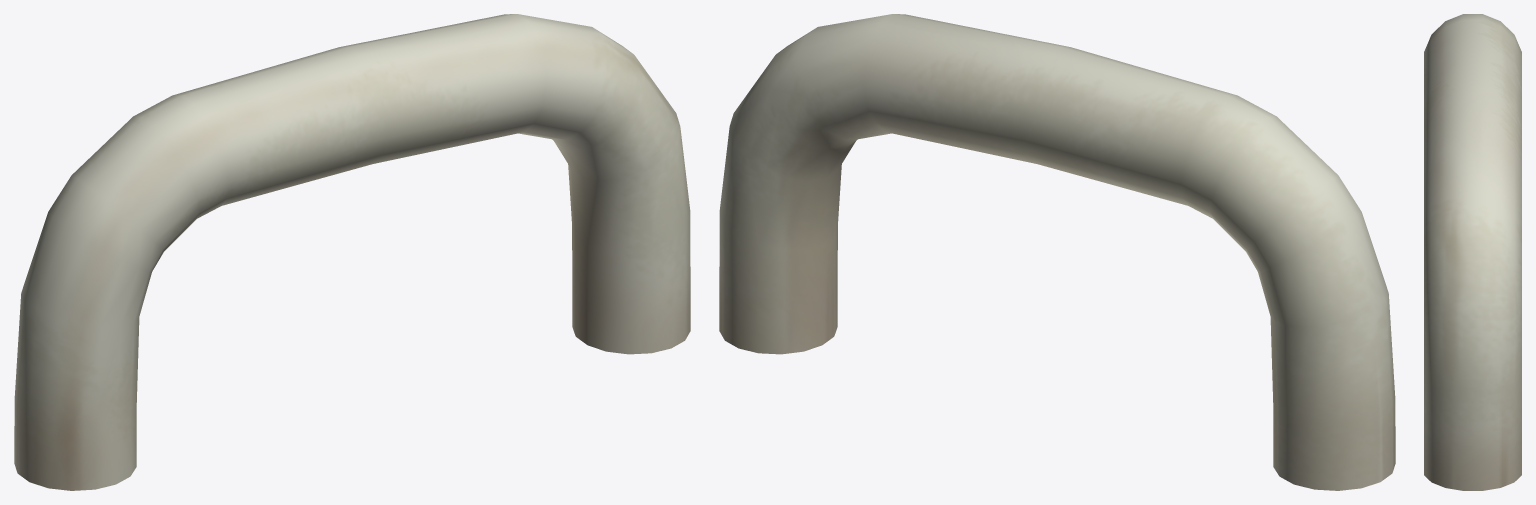
File: SiloTopPipe.fbx
The picture shows the model from 3 angles, left to right: view 1: azimuth 30°, elevation 25°; view 2: azimuth 150°, elevation 25°; view 3: azimuth 270°, elevation 25°; orthographic projection. The views are drawn at different scales.
Visible parts, largest first — view 1: SiloTopPipe; view 2: SiloTopPipe; view 3: SiloTopPipe.
Part boxes in pixels (x1,y1,x2,y2): SiloTopPipe: (14,14,690,490); SiloTopPipe: (719,14,1395,490); SiloTopPipe: (1424,14,1521,490).
Bounding box in the file's own units: 972 × 487 × 154.
